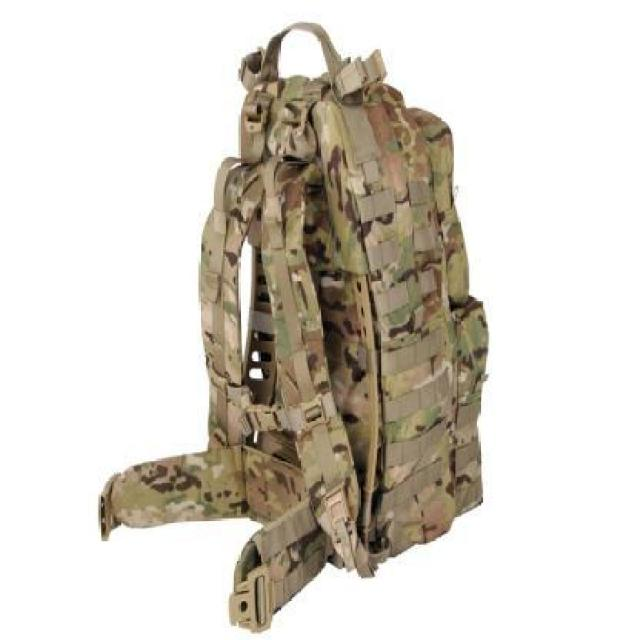backpack: (89, 17, 491, 638)
